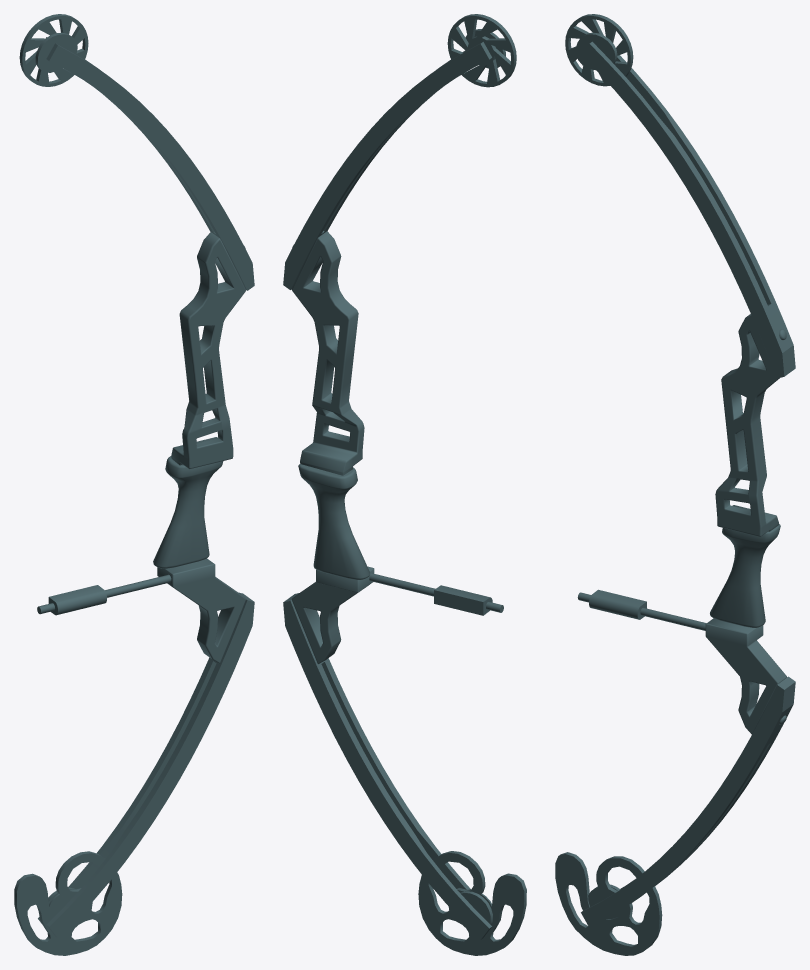
Rendered from Compound_Bow_FBX_Package.fbx.
3 renders of one model, left to right at view 1: azimuth 30°, elevation 25°; view 2: azimuth 150°, elevation 25°; view 3: azimuth 330°, elevation 25°, orthographic.
Visible parts, largest first — view 1: Model_Bow_Compound; view 2: Model_Bow_Compound; view 3: Model_Bow_Compound.
Part boxes in pixels (x1=…): Model_Bow_Compound: x1=14, y1=14, x2=254, y2=955; Model_Bow_Compound: x1=283, y1=14, x2=526, y2=955; Model_Bow_Compound: x1=555, y1=14, x2=795, y2=955.
Size of what is drawn, in the model's own units: 649 by 3880 by 14855.
